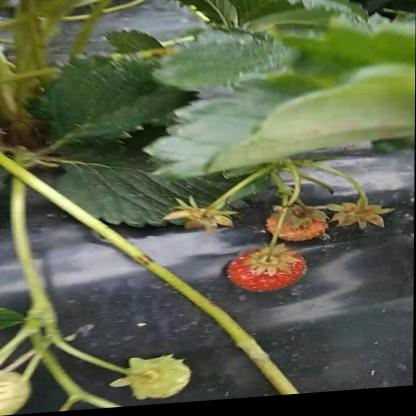ripe: (225, 252, 308, 302)
unripe: (122, 354, 198, 406), (261, 205, 332, 251), (0, 368, 34, 416)
